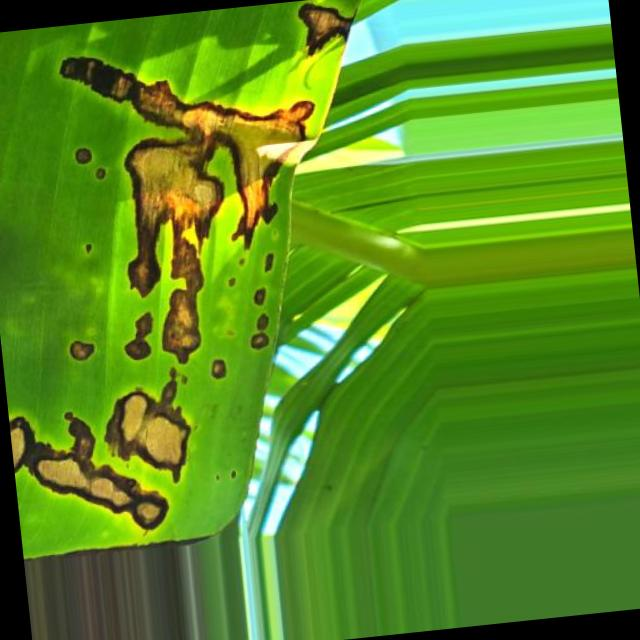Banana_Black_Sigatoka: (43, 0, 369, 332), (12, 352, 269, 567)
